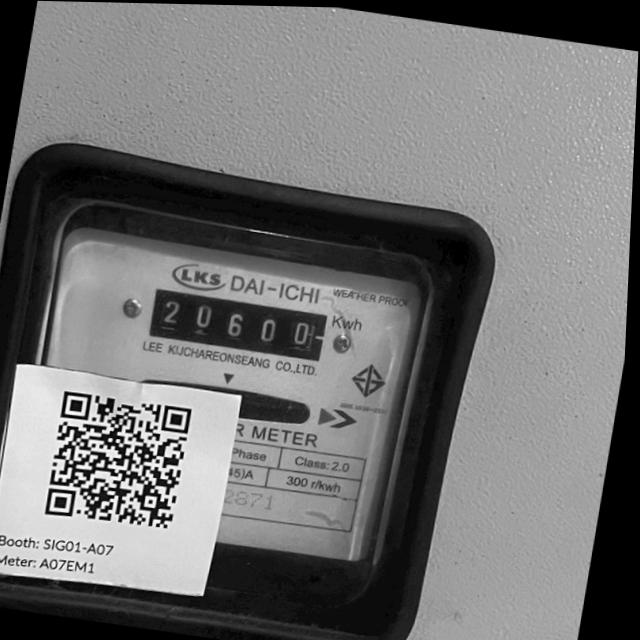qr_code: (41, 387, 196, 531)
